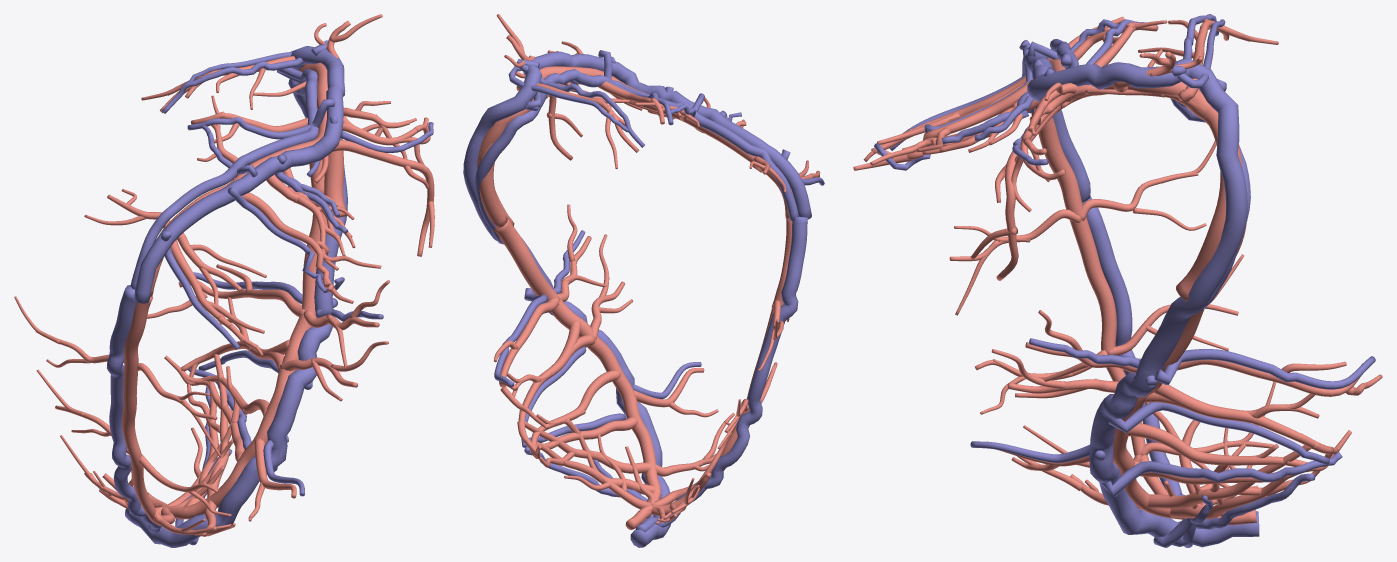
Rendered from vessels_29.glb.
The picture shows the model from 3 angles, left to right: view 1: azimuth 30°, elevation 25°; view 2: azimuth 150°, elevation 25°; view 3: azimuth 270°, elevation 25°; orthographic projection. The views are drawn at different scales.
Visible parts, largest first — view 1: Renderer Node; view 2: Renderer Node; view 3: Renderer Node.
Part boxes in pixels (<box>): Renderer Node: <box>14,14,434,547</box>; Renderer Node: <box>463,14,824,547</box>; Renderer Node: <box>853,14,1382,547</box>.
Bounding box in the file's own units: 82.69 × 113 × 88.57.
